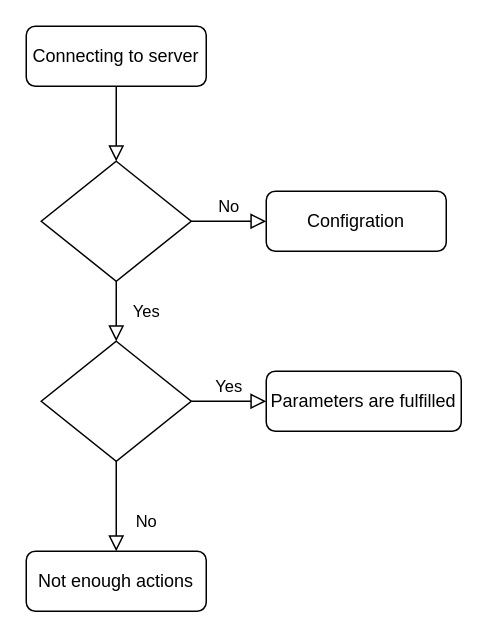
The diagram is 488 pixels wide and 638 high, and some of its shapes have lost their labels. The shapes that lost their labels are listed below. From the top down, each one's centre as x and y in pixels, then its label:
[115,220]: Authentication
[115,400]: Autorization
